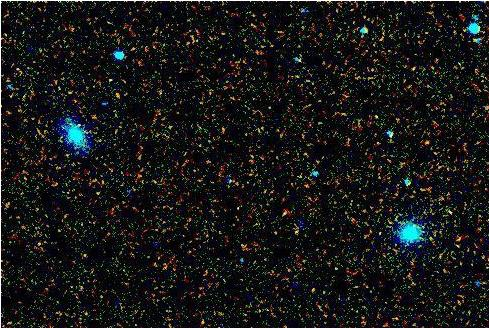star: (359, 101, 389, 131)
